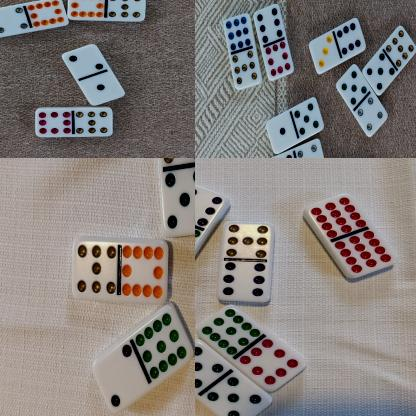pip-1: (80, 73, 126, 105), (266, 112, 296, 154)
pip-10: (120, 241, 168, 302), (26, 0, 70, 27), (67, 0, 107, 20)
pip-11: (136, 306, 193, 380), (202, 304, 262, 353)
pip-12: (336, 228, 394, 277), (308, 194, 368, 238)
pip-2: (94, 342, 144, 412), (63, 42, 104, 77)
pip-3: (309, 32, 337, 74)
pip-4: (358, 96, 389, 136), (0, 5, 29, 37), (297, 138, 326, 158)
pip-5: (204, 377, 267, 416), (163, 166, 195, 233), (195, 341, 223, 388), (337, 63, 367, 106), (363, 53, 395, 93), (295, 96, 324, 136)
pip-6: (219, 260, 270, 302), (195, 182, 228, 226), (336, 18, 367, 56), (255, 3, 283, 43)
pip-7: (73, 237, 118, 300), (223, 223, 274, 260), (385, 25, 416, 66), (74, 105, 113, 137), (232, 49, 262, 89), (106, 0, 147, 21)
pip-8: (240, 338, 306, 390), (36, 106, 74, 137), (266, 40, 294, 79)
pip-9: (222, 12, 254, 50)
